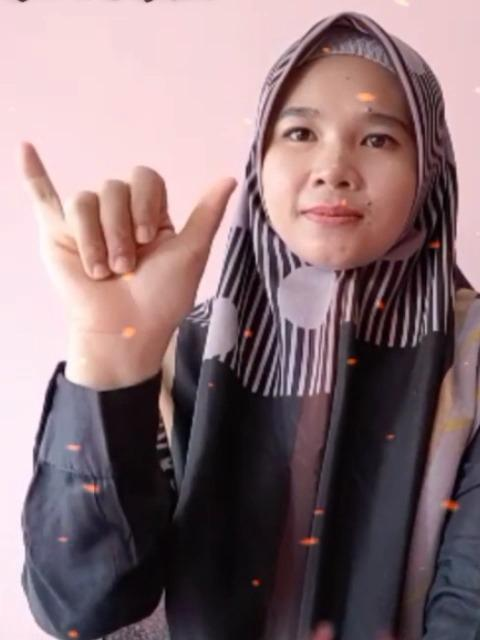Y: (17, 137, 237, 347)
